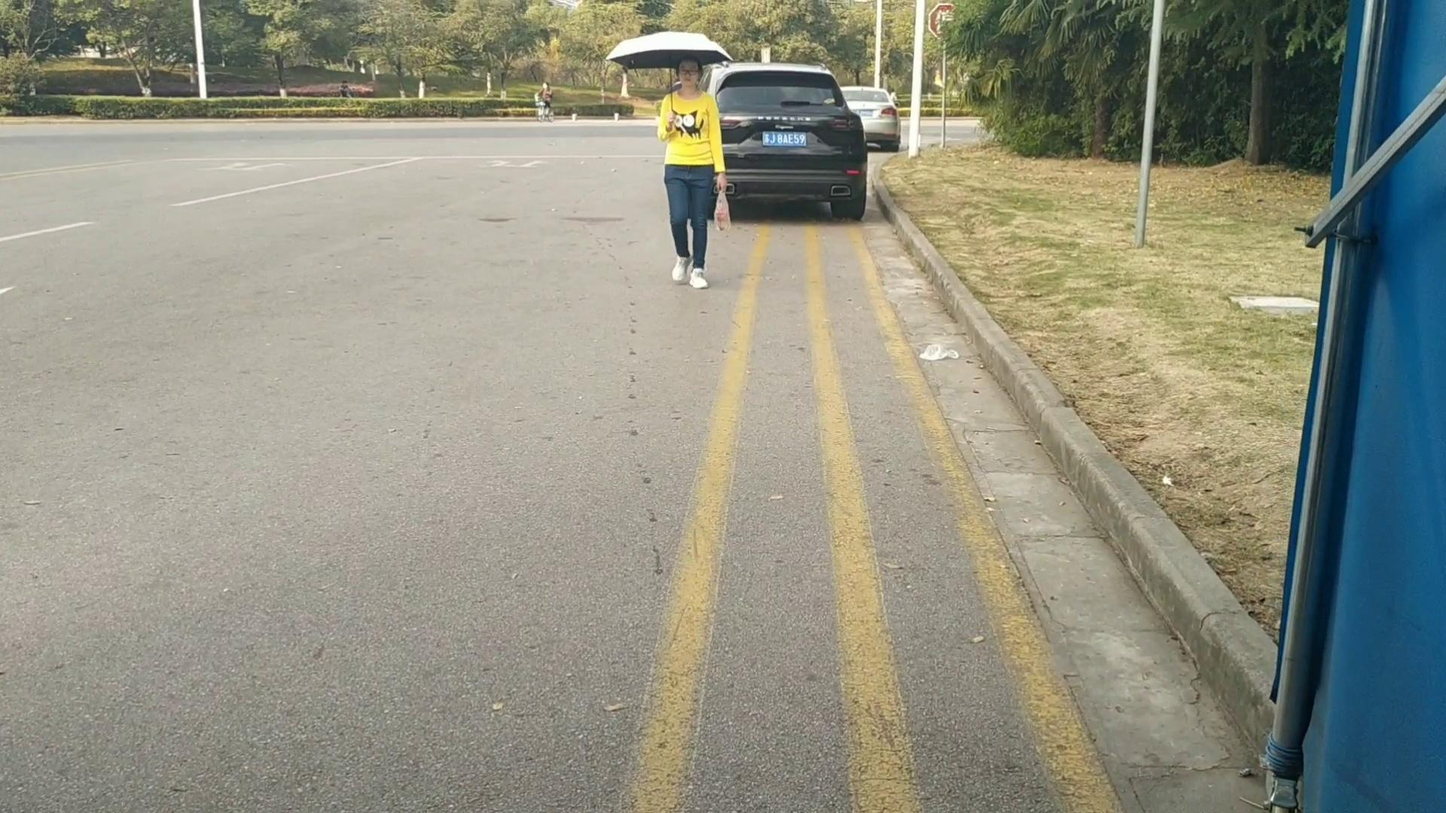car: (705, 62, 868, 221), (841, 85, 901, 151)
